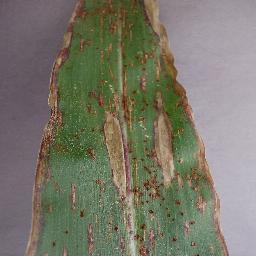Corn_Blight: (22, 0, 235, 254)
